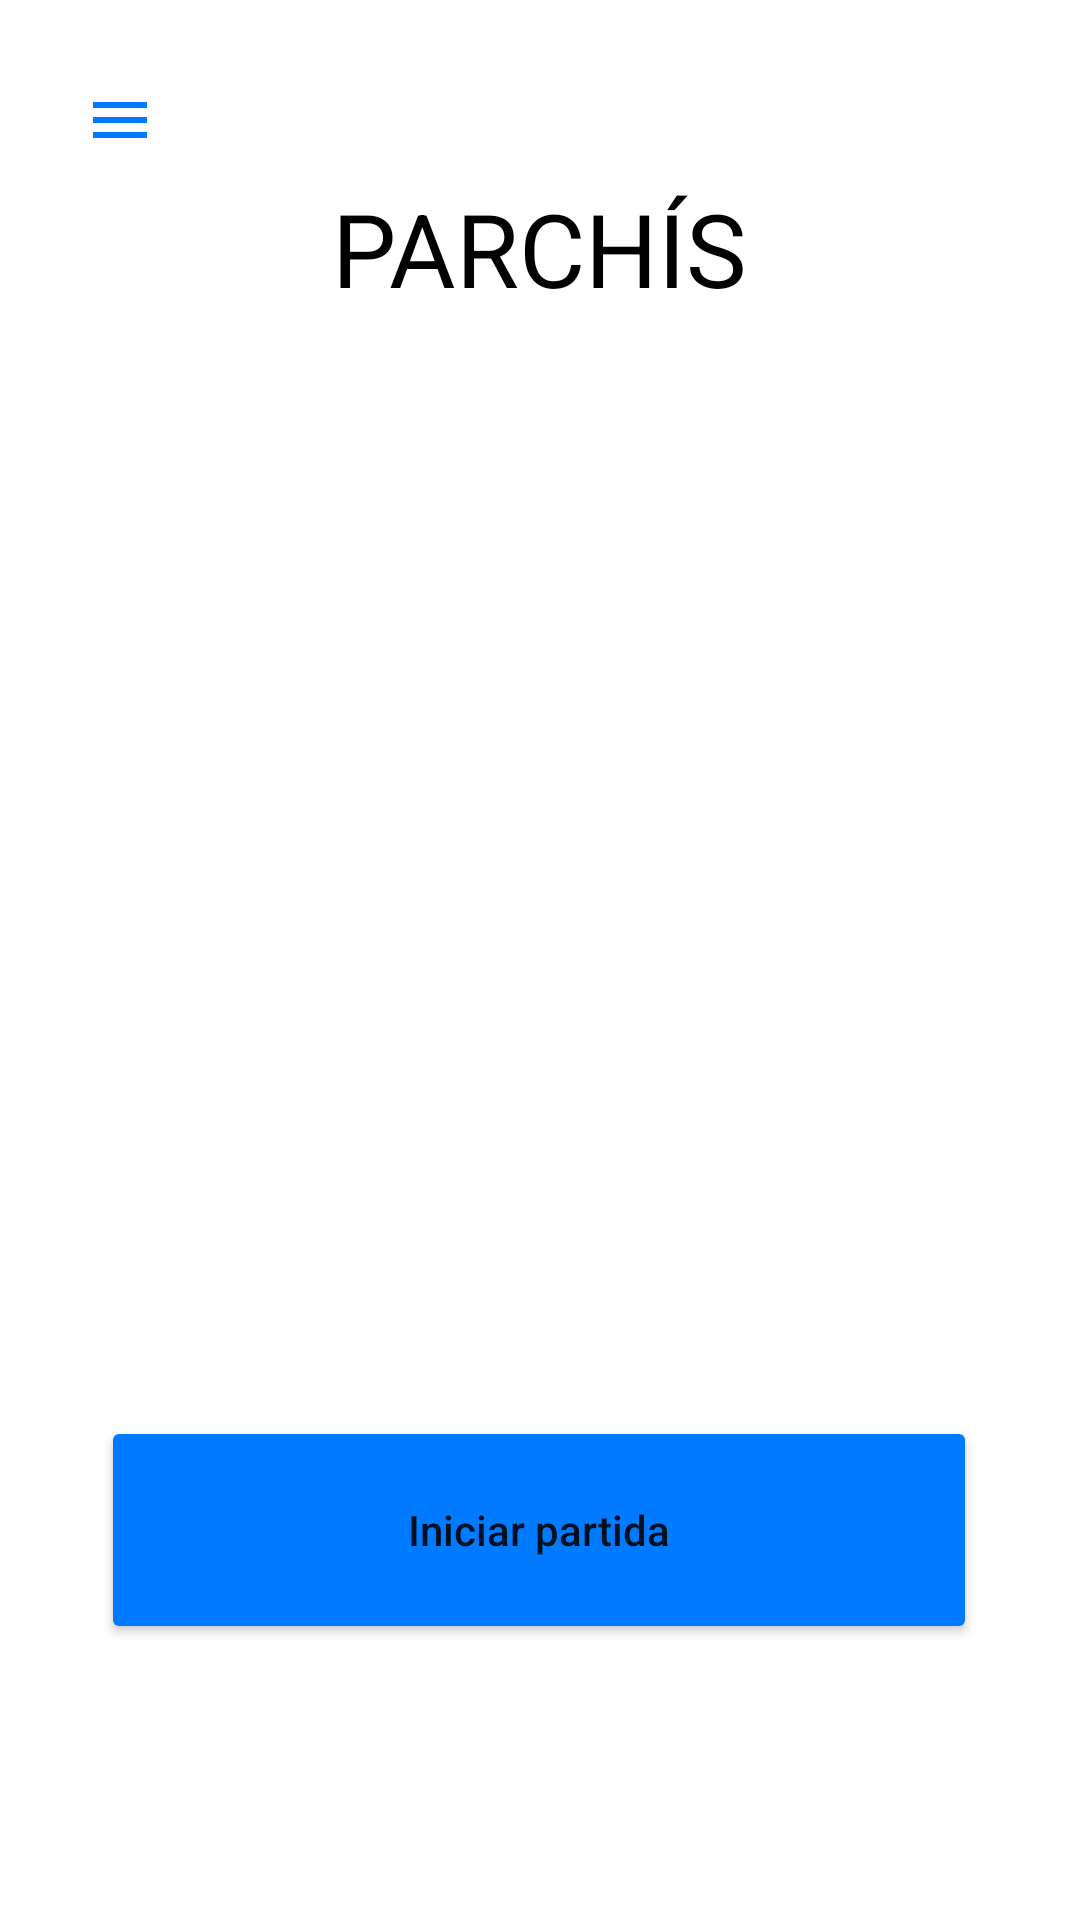

Point at icon controls on the screen. Image size 1080w x 1920h, points as (x=x, y=y).
Para volver al menu: (x=120, y=120)
